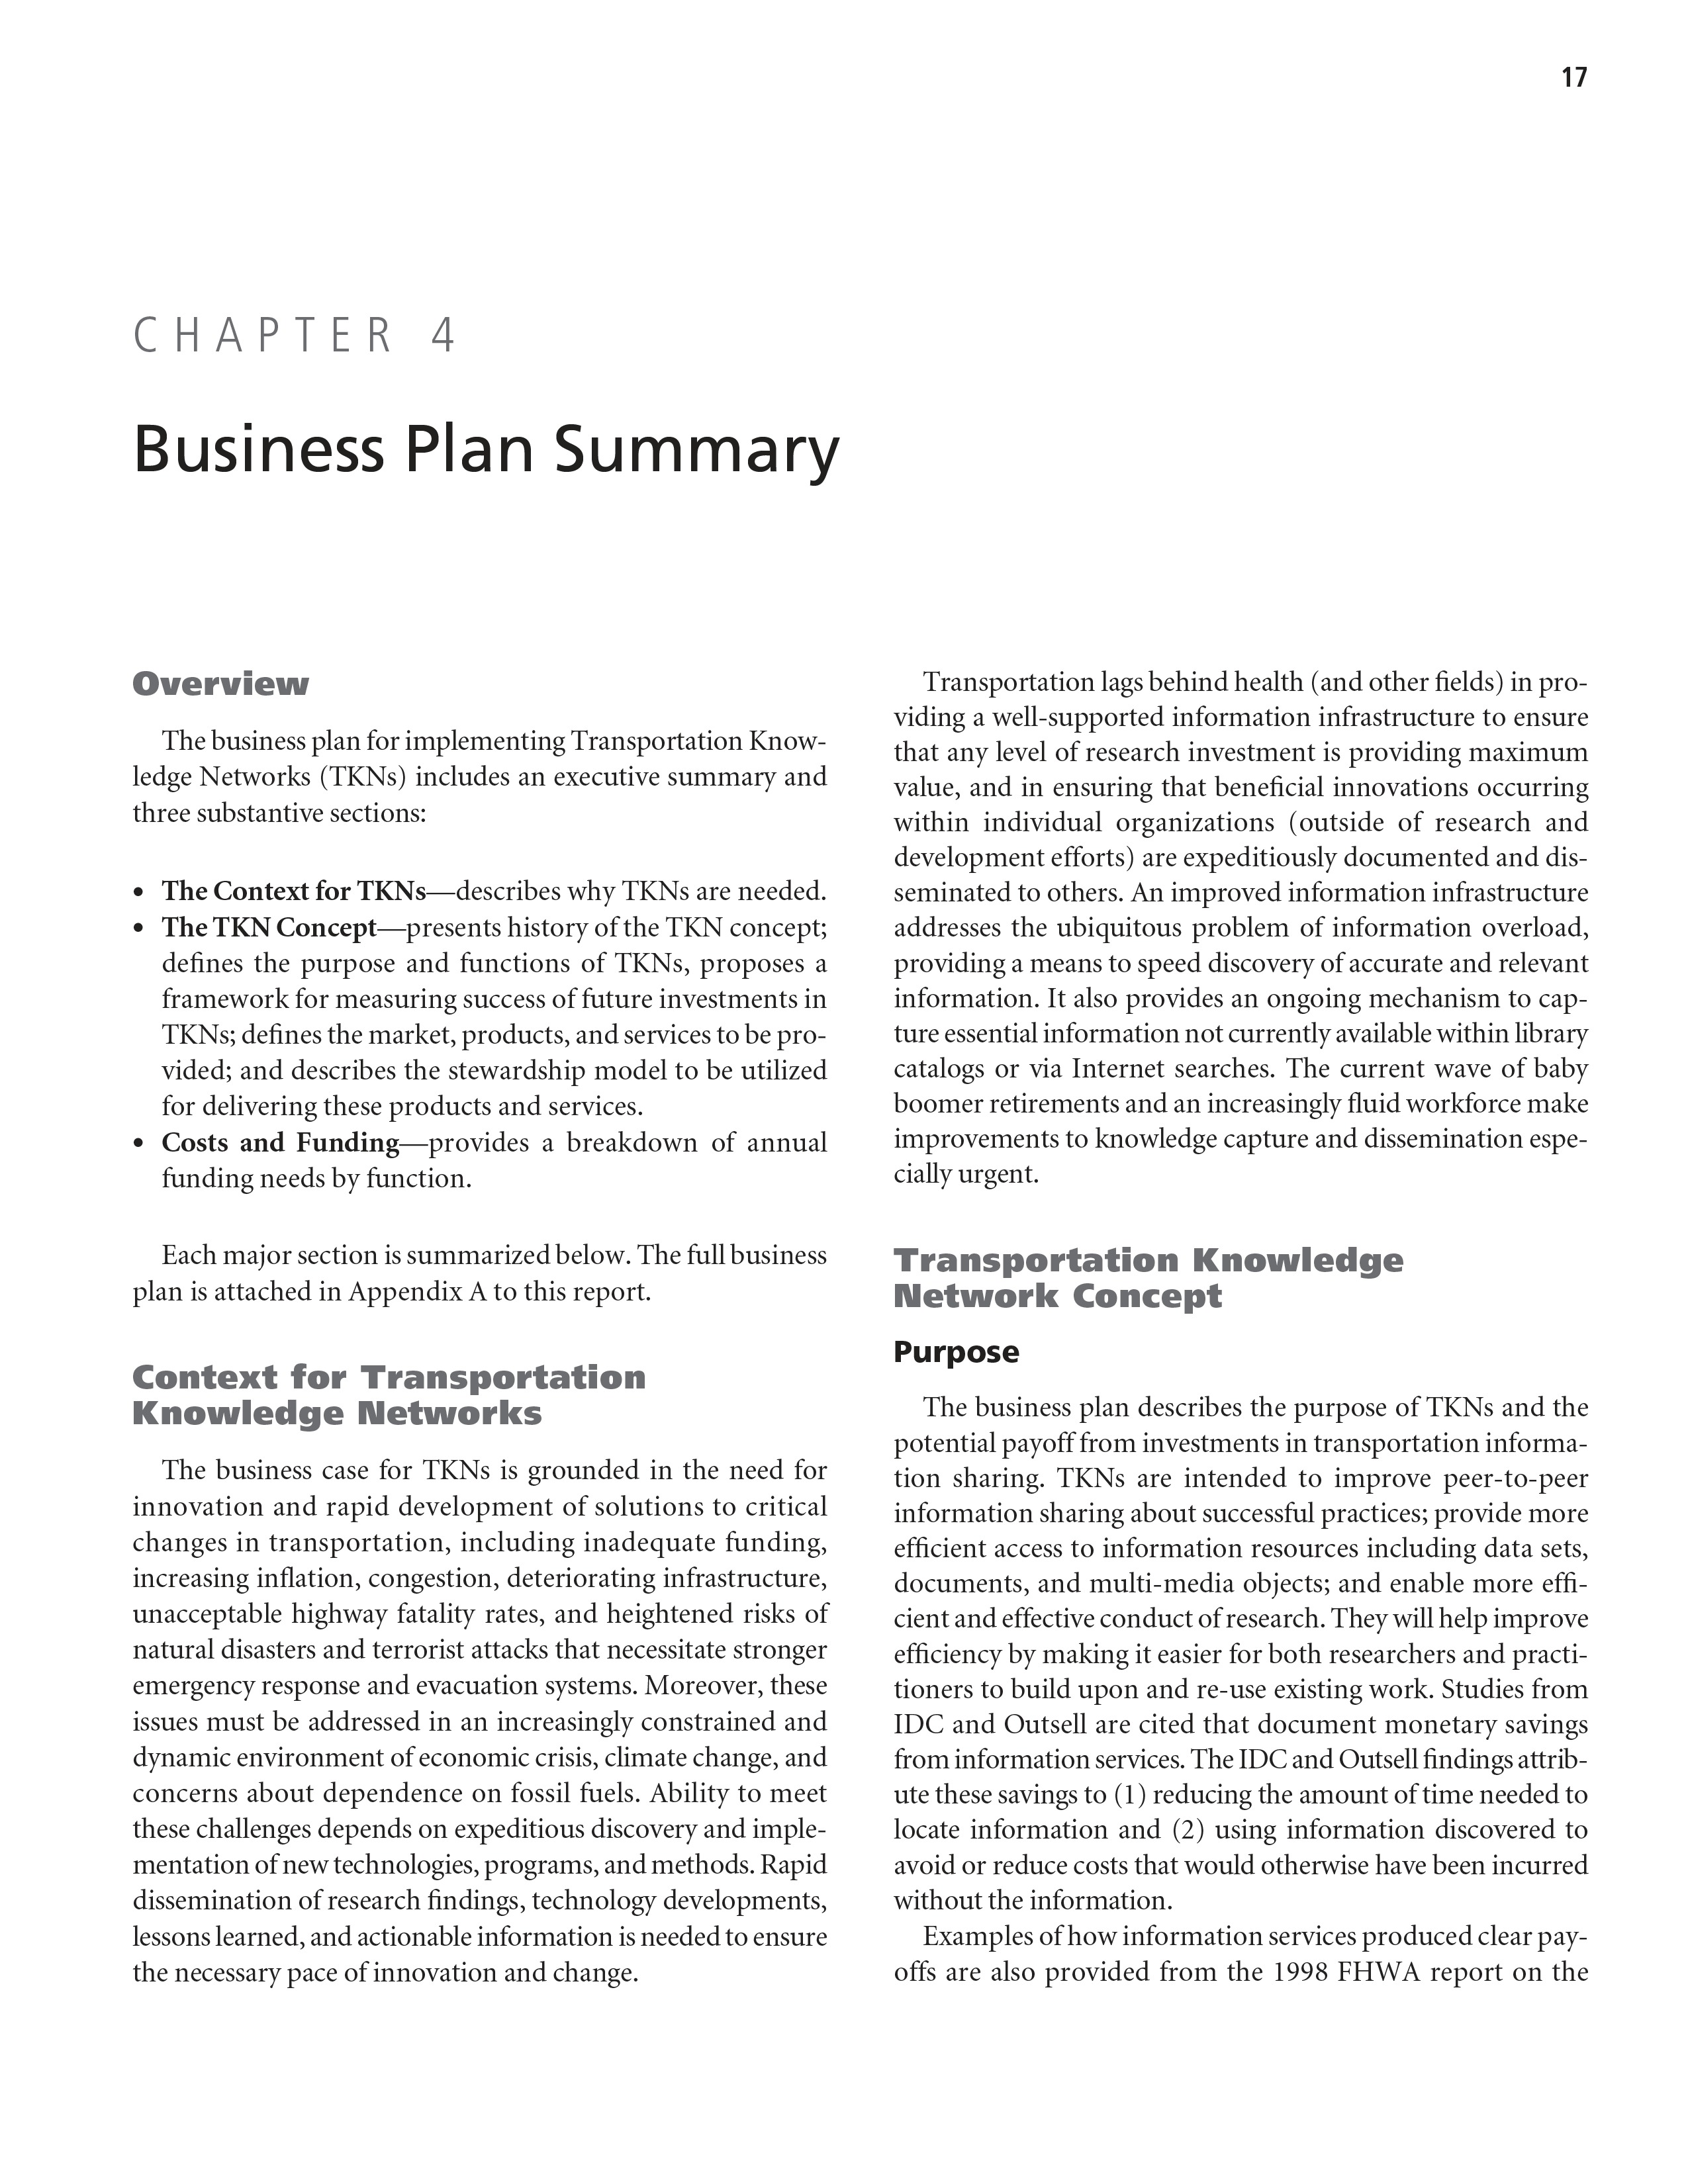list: (119, 872, 856, 1209)
section: (126, 406, 856, 509), (106, 1351, 688, 1445), (883, 1232, 1422, 1322), (103, 300, 475, 363), (126, 651, 349, 720), (879, 1335, 1035, 1381)
text: (122, 1441, 846, 2012), (899, 651, 1596, 1197), (892, 1377, 1576, 1913), (126, 727, 839, 823), (119, 1232, 833, 1319), (892, 1920, 1619, 1998)
